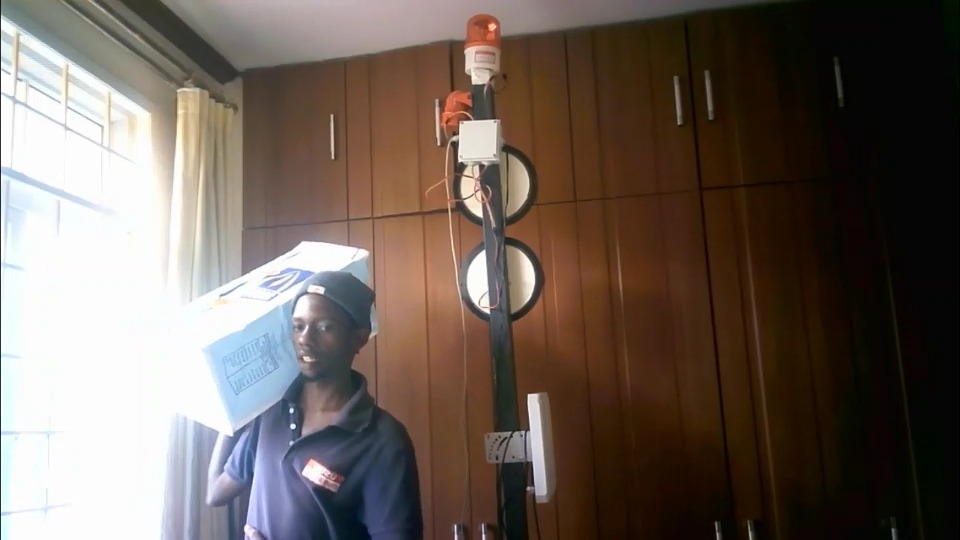wheat_flour_blue_label: (166, 239, 379, 425)
